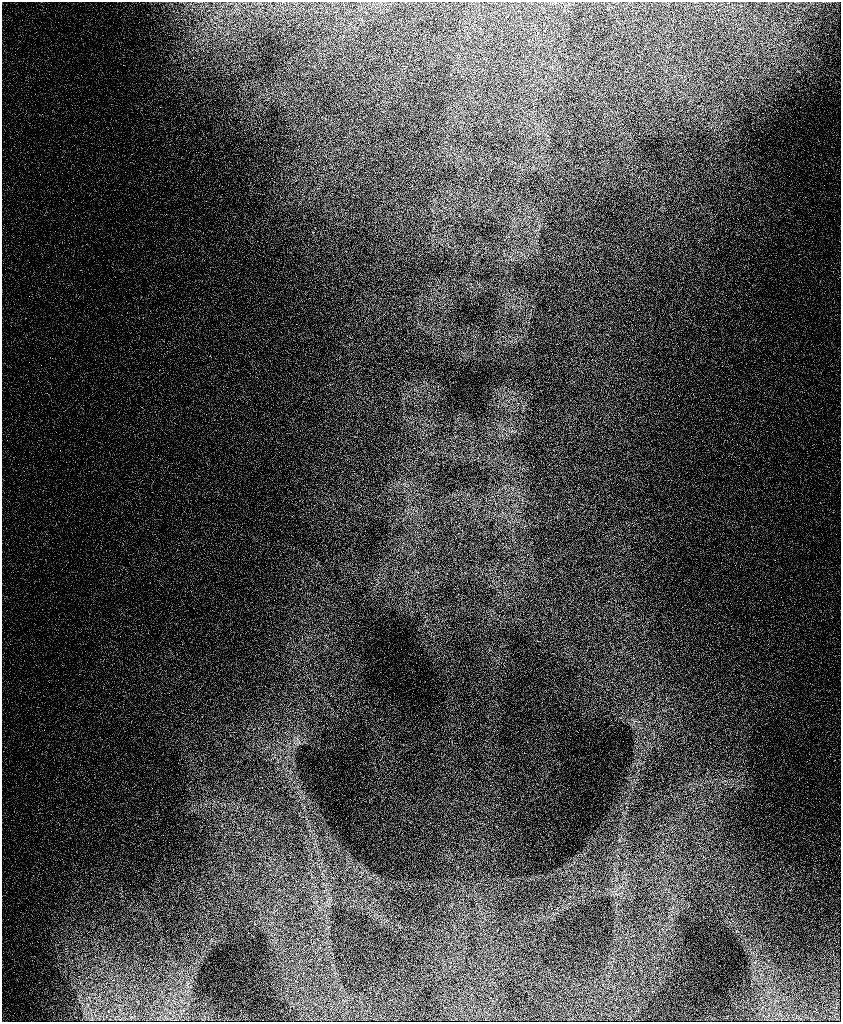lumbar scoliosis: (382, 20, 566, 637)
